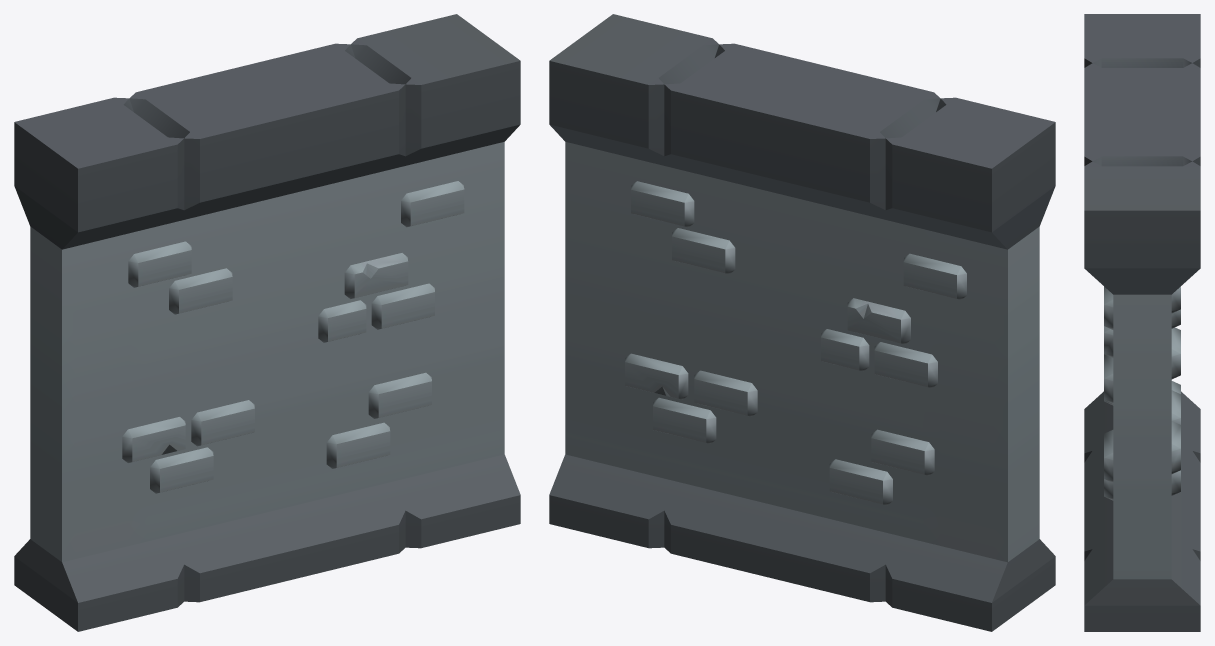
The model's file is wall.glb.
3 views of the same model, side by side, from view 1: azimuth 30°, elevation 25°; view 2: azimuth 150°, elevation 25°; view 3: azimuth 270°, elevation 25° (orthographic). The views are drawn at different scales.
Parts seen in each view (by area): view 1: wall; view 2: wall; view 3: wall.
Boxes of the visible parts, box(x1,y1,x2,y2) form: wall: box(14, 14, 520, 631); wall: box(549, 14, 1055, 631); wall: box(1084, 14, 1200, 631).
Size of the model in its own units: 4 by 4 by 1.
1 material, 1 textured.
